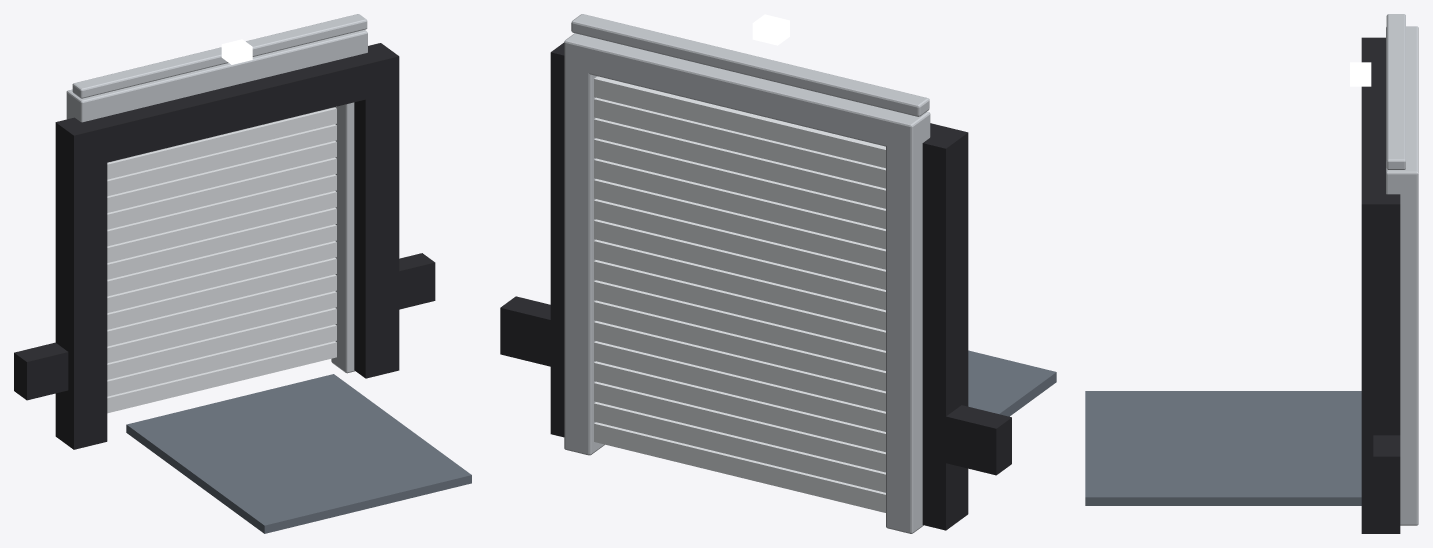
Rendered from dock_hi.glb.
3 renders of one model, left to right at view 1: azimuth 30°, elevation 25°; view 2: azimuth 150°, elevation 25°; view 3: azimuth 270°, elevation 25°, orthographic. The views are drawn at different scales.
Visible parts, largest first — view 1: Dock01_Door, Dock01_Seal, Dock01_Leveler, Dock01_Frame, Dock01_Bumpers, Dock01_DockLight; view 2: Dock01_Door, Dock01_Frame, Dock01_Seal, Dock01_Bumpers, Dock01_Leveler, Dock01_DockLight; view 3: Dock01_Leveler, Dock01_Seal, Dock01_Frame, Dock01_Bumpers, Dock01_DockLight.
Part boxes in pixels (bbox=[...]): Dock01_Door: bbox=[107, 106, 336, 413]; Dock01_Seal: bbox=[55, 43, 399, 449]; Dock01_Leveler: bbox=[126, 374, 471, 533]; Dock01_Frame: bbox=[66, 14, 367, 373]; Dock01_Bumpers: bbox=[14, 253, 435, 400]; Dock01_DockLight: bbox=[221, 39, 252, 64]; Dock01_Door: bbox=[594, 76, 885, 512]; Dock01_Frame: bbox=[564, 14, 930, 533]; Dock01_Seal: bbox=[550, 42, 968, 530]; Dock01_Bumpers: bbox=[500, 296, 1011, 475]; Dock01_Leveler: bbox=[968, 350, 1056, 416]; Dock01_DockLight: bbox=[752, 14, 789, 45]; Dock01_Leveler: bbox=[1085, 391, 1361, 505]; Dock01_Seal: bbox=[1361, 37, 1400, 533]; Dock01_Frame: bbox=[1386, 14, 1418, 525]; Dock01_Bumpers: bbox=[1373, 435, 1400, 496]; Dock01_DockLight: bbox=[1350, 62, 1371, 86].
Size of the model in its own units: 5.12 by 4.4 by 3.45.
